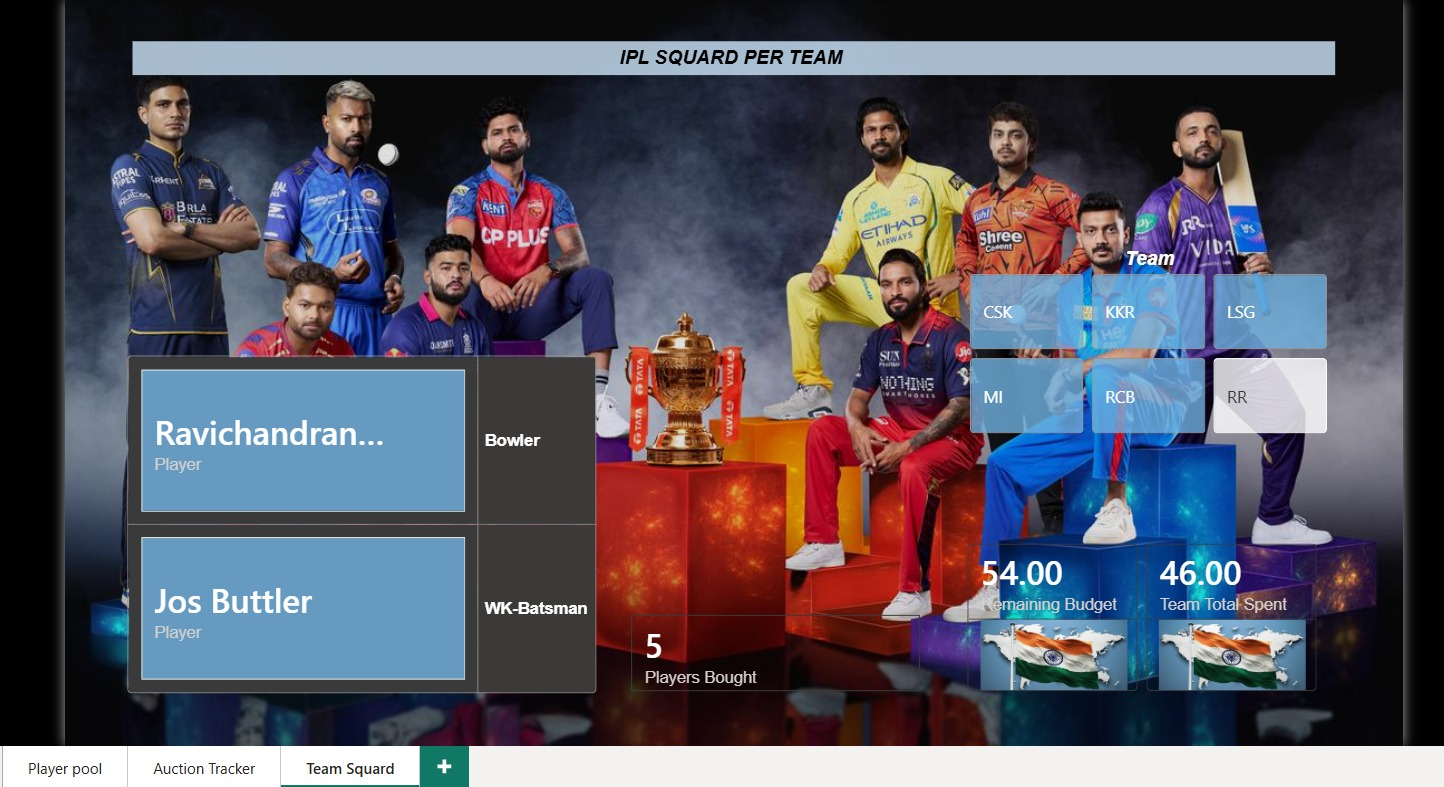

This screenshot's page, from the dashboard's own definition file:
{"tool":"powerbi","page":{"name":"Team Squard","canvas":[1297,723],"ordinal":2},"visuals":[{"type":"cardVisual","fields":{"Data":["Min(Purchased Players.Player)"],"Rows":["Purchased Players.Role"]},"box":[55.5,319.7,464.5,378.8],"z":0},{"type":"cardVisual","fields":{"Data":["Bid Amount.Remaining Budget","Bid Amount.Team Total Spent"]},"box":[857.8,510.3,372.8,177.3],"z":1000},{"type":"advancedSlicerVisual","fields":{"Values":["Purchased Players.Team"]},"box":[872.3,240.1,358.3,185.8],"z":2000},{"type":"cardVisual","fields":{"Data":["Bid Amount.Players Bought"]},"box":[532,579.1,314.9,108.6],"z":3000},{"type":"textbox","box":[65.1,39.8,1165.4,32.6],"z":4000}]}

Visuals, with their boxes in screenshot pixels (x1, y1, x2, y2):
cardVisual - Min(Purchased Players.Player) x Purchased Players.Role: pyautogui.locateOnScreen(138, 339, 636, 745)
cardVisual - Bid Amount.Remaining Budget x Bid Amount.Team Total Spent: pyautogui.locateOnScreen(999, 543, 1398, 733)
advancedSlicerVisual - Purchased Players.Team: pyautogui.locateOnScreen(1014, 254, 1398, 453)
cardVisual - Bid Amount.Players Bought: pyautogui.locateOnScreen(649, 617, 987, 733)
textbox: pyautogui.locateOnScreen(149, 39, 1398, 74)
